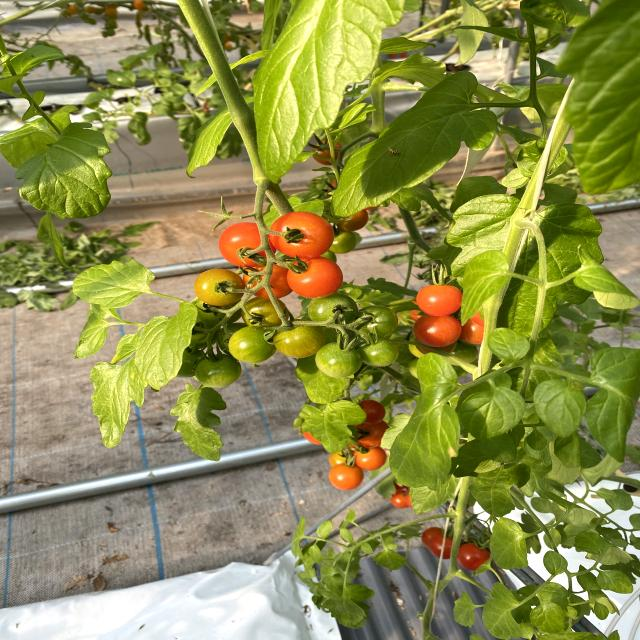ripe0: (229, 326, 275, 364), (275, 323, 323, 358), (195, 354, 242, 389), (316, 343, 361, 378)
ripe1: (195, 268, 245, 305)
ripe2: (269, 211, 333, 259), (286, 260, 343, 299), (218, 221, 260, 268), (416, 285, 463, 317), (329, 463, 364, 490), (353, 447, 387, 470)
